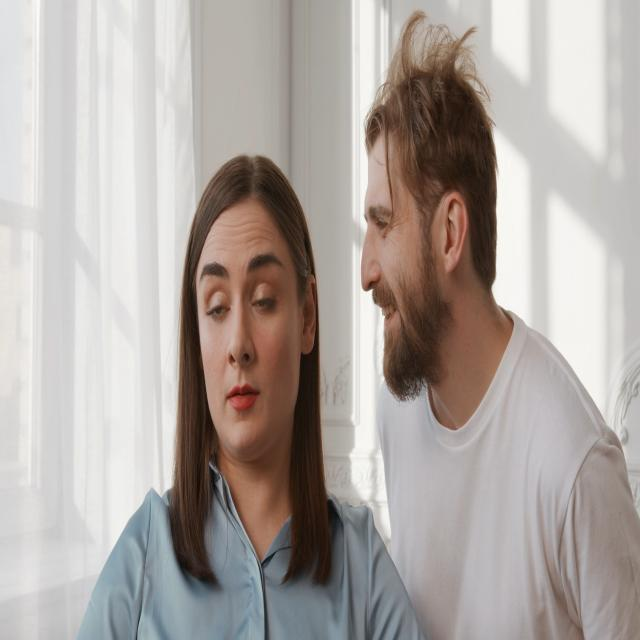frustrated: (182, 178, 308, 513)
happy: (350, 29, 505, 424)
